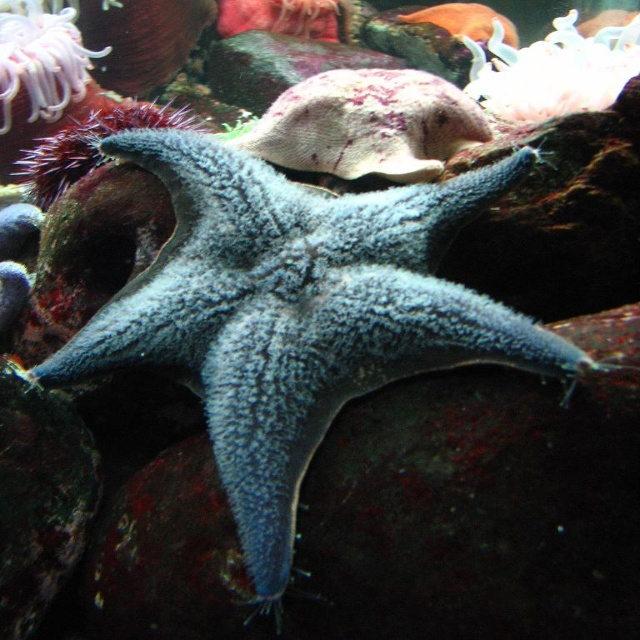Starfish: (25, 122, 621, 636)
